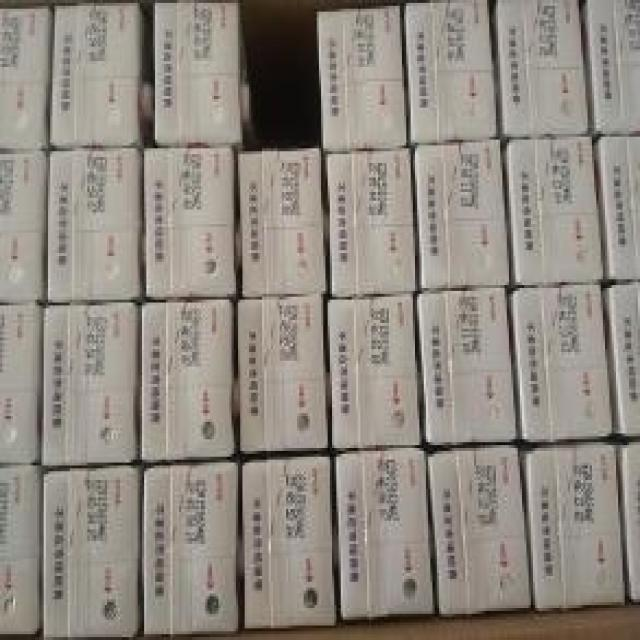Carton: (328, 145, 513, 445), (140, 148, 234, 457), (402, 0, 585, 140), (332, 448, 430, 614), (428, 448, 526, 608), (240, 457, 332, 623), (513, 285, 612, 439), (142, 463, 234, 628), (44, 468, 133, 637), (42, 303, 135, 463), (585, 0, 638, 279), (524, 445, 618, 599), (502, 137, 601, 279), (236, 294, 325, 451), (46, 151, 138, 297), (236, 145, 325, 294), (151, 3, 240, 140), (52, 3, 140, 137), (0, 9, 44, 148), (0, 157, 42, 294), (0, 305, 37, 460), (2, 468, 35, 628), (607, 282, 636, 431)
